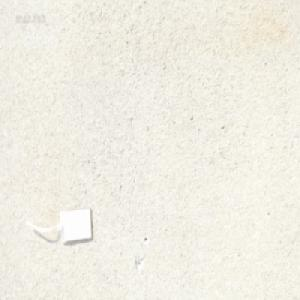LuggageTag: (24, 203, 93, 246)
